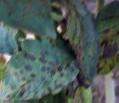Tomato leaf bacterial spot: (0, 43, 93, 103), (49, 0, 101, 89), (86, 1, 119, 75)
